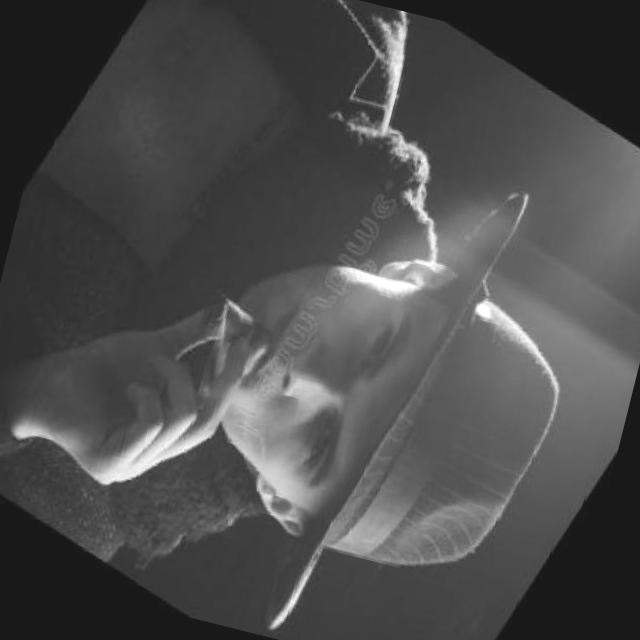smoke: (184, 278, 290, 368)
